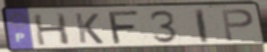3: (149, 10, 180, 45)
F: (108, 10, 143, 46)
H: (31, 12, 73, 47)
I: (193, 8, 211, 44)
K: (73, 12, 106, 45)
P: (220, 8, 256, 43)
